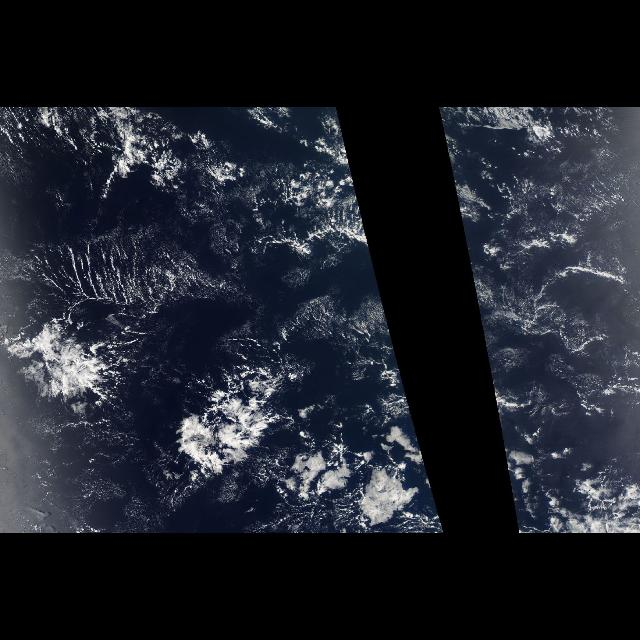Fish: (3, 333, 419, 519), (1, 222, 256, 322)
Gravel: (5, 107, 395, 351), (438, 107, 640, 351)
Sugar: (465, 220, 637, 398)
